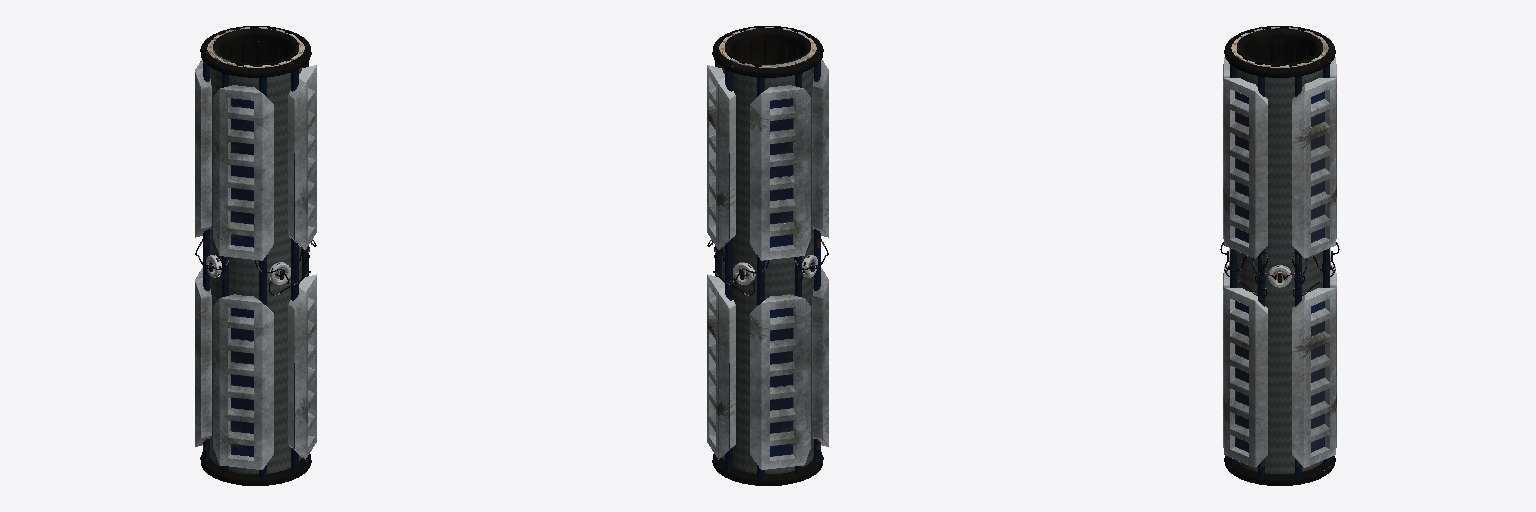
3 views of the same model, side by side, from view 1: azimuth 30°, elevation 25°; view 2: azimuth 150°, elevation 25°; view 3: azimuth 270°, elevation 25° (orthographic).
Visible parts, largest first — view 1: Armored_Pipe; view 2: Armored_Pipe; view 3: Armored_Pipe.
Boxes of the visible parts, x1,y1,x2,y2 form: Armored_Pipe: [195, 26, 316, 485]; Armored_Pipe: [707, 26, 828, 485]; Armored_Pipe: [1220, 26, 1339, 485].
Size of the model in its own units: 0.5254 by 2 by 0.5161.
Materials: 5 (5 with a texture image).